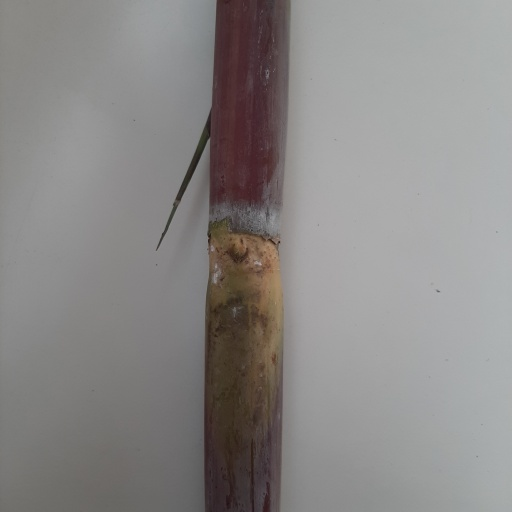Bud: (225, 236, 253, 265)
